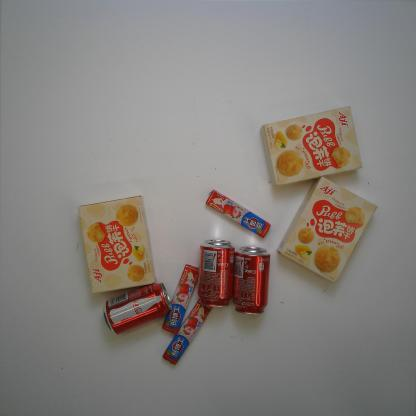Candy: (159, 297, 216, 366), (203, 189, 271, 239), (161, 264, 202, 334)
Dessert: (274, 174, 378, 286), (258, 103, 363, 187), (76, 193, 157, 298)
Drink: (100, 281, 174, 336), (195, 237, 236, 309), (232, 244, 271, 318)
